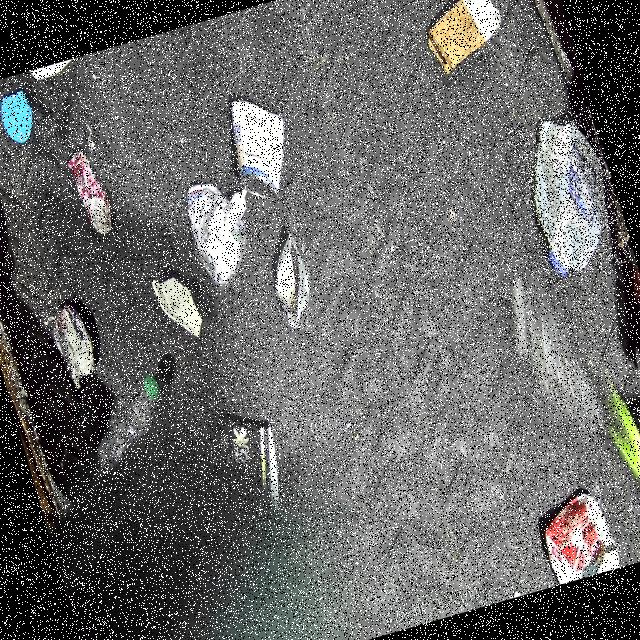milk-jug: (503, 106, 632, 284)
